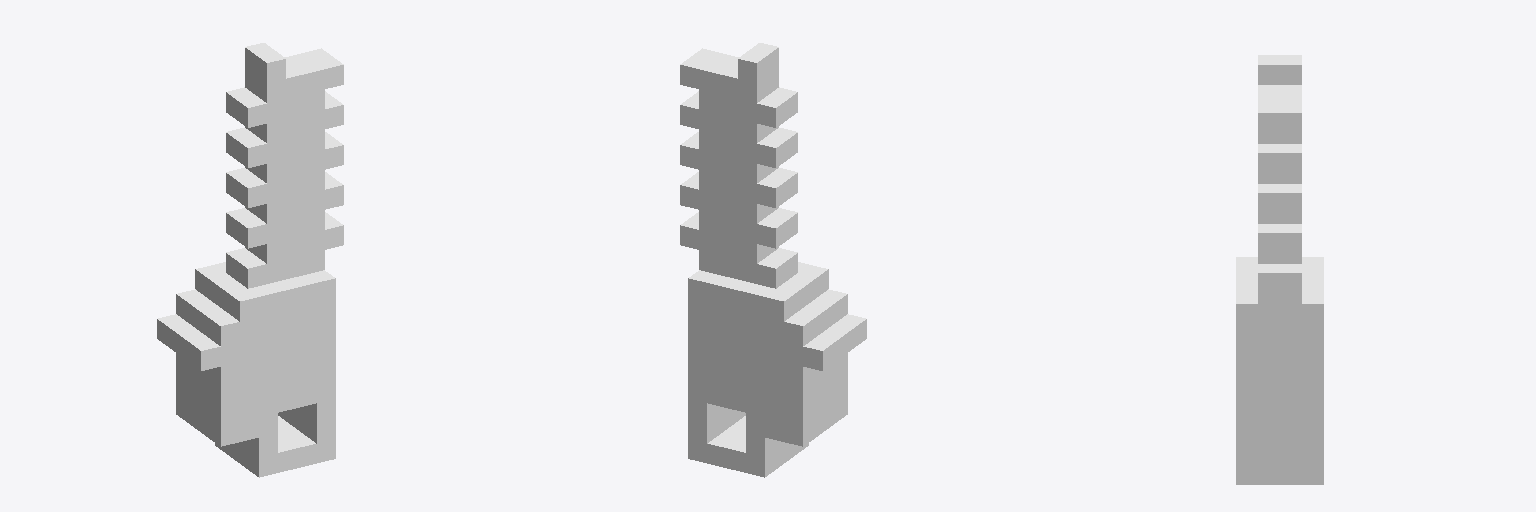
Rendered from chainsaw_1.obj.
The picture shows the model from 3 angles: view 1: azimuth 30°, elevation 25°; view 2: azimuth 150°, elevation 25°; view 3: azimuth 270°, elevation 25°; orthographic projection.
Parts seen in each view (by area): view 1: object 1; view 2: object 1; view 3: object 1.
Boxes of the visible parts, <box> form: object 1: <box>157,43,343,477</box>; object 1: <box>680,43,866,477</box>; object 1: <box>1236,55,1323,484</box>.
Bounding box in the file's own units: 0.8 × 2 × 0.4.